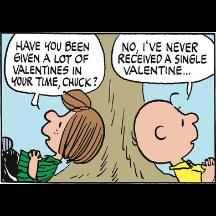charlie: (130, 91, 216, 184)
